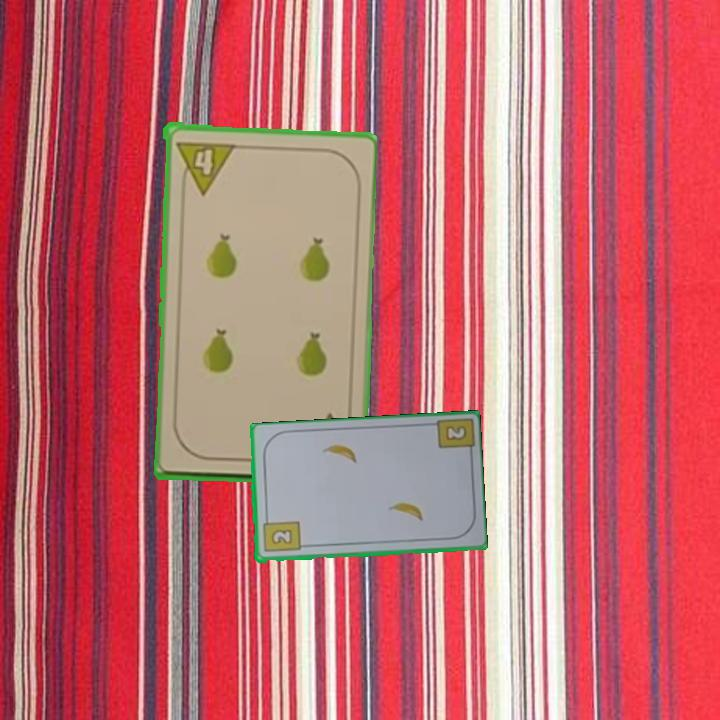2b: (259, 513, 302, 555), (444, 424, 467, 442)
4p: (171, 138, 235, 195)
